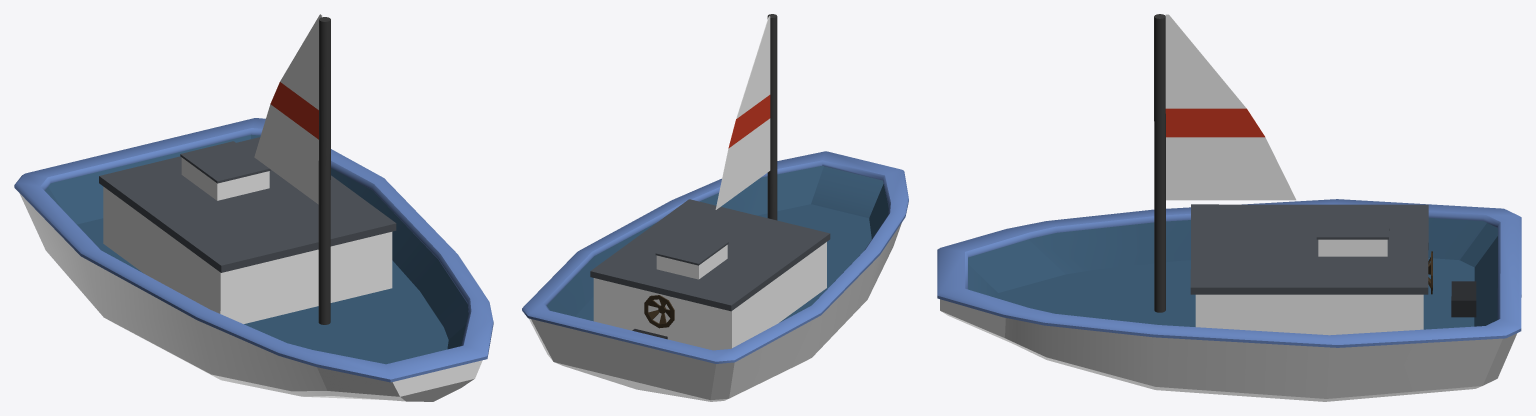
Rendered from Boat_1.fbx.
3 renders of one model, left to right at view 1: azimuth 30°, elevation 25°; view 2: azimuth 150°, elevation 25°; view 3: azimuth 270°, elevation 25°, orthographic. The views are drawn at different scales.
Visible parts, largest first — view 1: Boat_1; view 2: Boat_1; view 3: Boat_1.
Part boxes in pixels (left/top/right/bottom): Boat_1: left=14, top=14, right=493, bottom=401; Boat_1: left=522, top=14, right=908, bottom=401; Boat_1: left=937, top=14, right=1521, bottom=401.
Size of the model in its own units: 636 by 705 by 1088.
